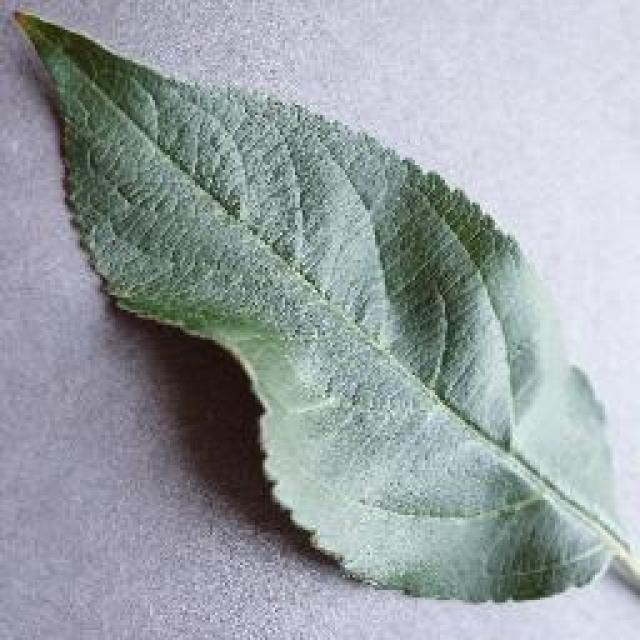apple healthy: (10, 2, 638, 612)
